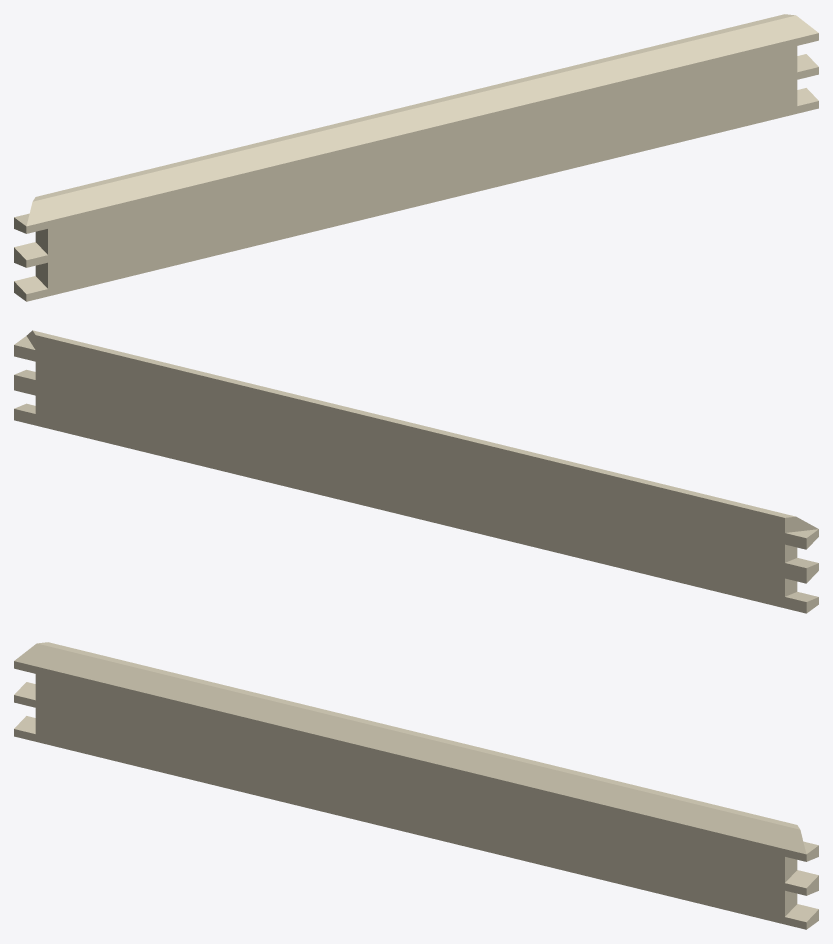
The model's file is original-98.obj.
3 views of the same model, one above another, from view 1: azimuth 30°, elevation 25°; view 2: azimuth 150°, elevation 25°; view 3: azimuth 330°, elevation 25° (orthographic).
Visible parts, largest first — view 1: Group92/mesh158/mesh158-geometry#mesh158-geometry; view 2: Group92/mesh158/mesh158-geometry#mesh158-geometry; view 3: Group92/mesh158/mesh158-geometry#mesh158-geometry.
Part boxes in pixels (box(x1,y1,x2,y2)): Group92/mesh158/mesh158-geometry#mesh158-geometry: box(14, 14, 818, 301); Group92/mesh158/mesh158-geometry#mesh158-geometry: box(14, 330, 818, 613); Group92/mesh158/mesh158-geometry#mesh158-geometry: box(14, 642, 818, 929).
Bounding box in the file's own units: 1.08 × 0.1182 × 0.0295.
